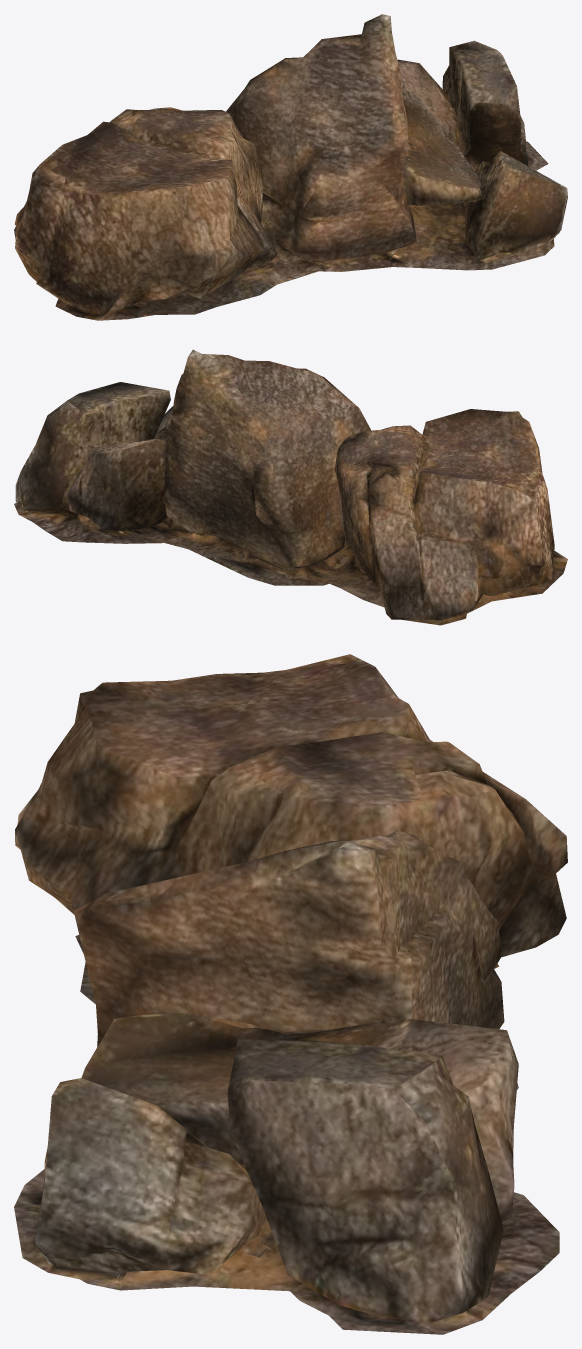
Rendered from namaqualand_boulder_02.glb.
The picture shows the model from 3 angles, top to bottom: view 1: azimuth 30°, elevation 25°; view 2: azimuth 150°, elevation 25°; view 3: azimuth 270°, elevation 25°; orthographic projection. The views are drawn at different scales.
Visible parts, largest first — view 1: boulder_02; view 2: boulder_02; view 3: boulder_02.
Boxes of the visible parts, bbox=[...] form: boulder_02: bbox=[14, 14, 567, 320]; boulder_02: bbox=[14, 349, 567, 625]; boulder_02: bbox=[14, 654, 567, 1334].
Size of the model in its own units: 2.52 by 0.8695 by 1.23.
1 material, 1 textured.
